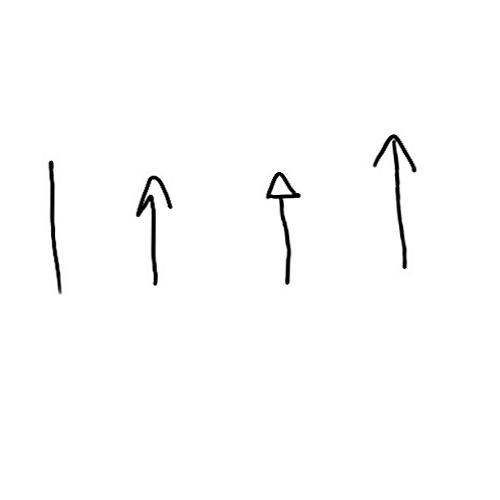arrow: (376, 134, 421, 269), (262, 169, 303, 290), (134, 171, 172, 284)
arrownohead: (43, 162, 66, 293)
